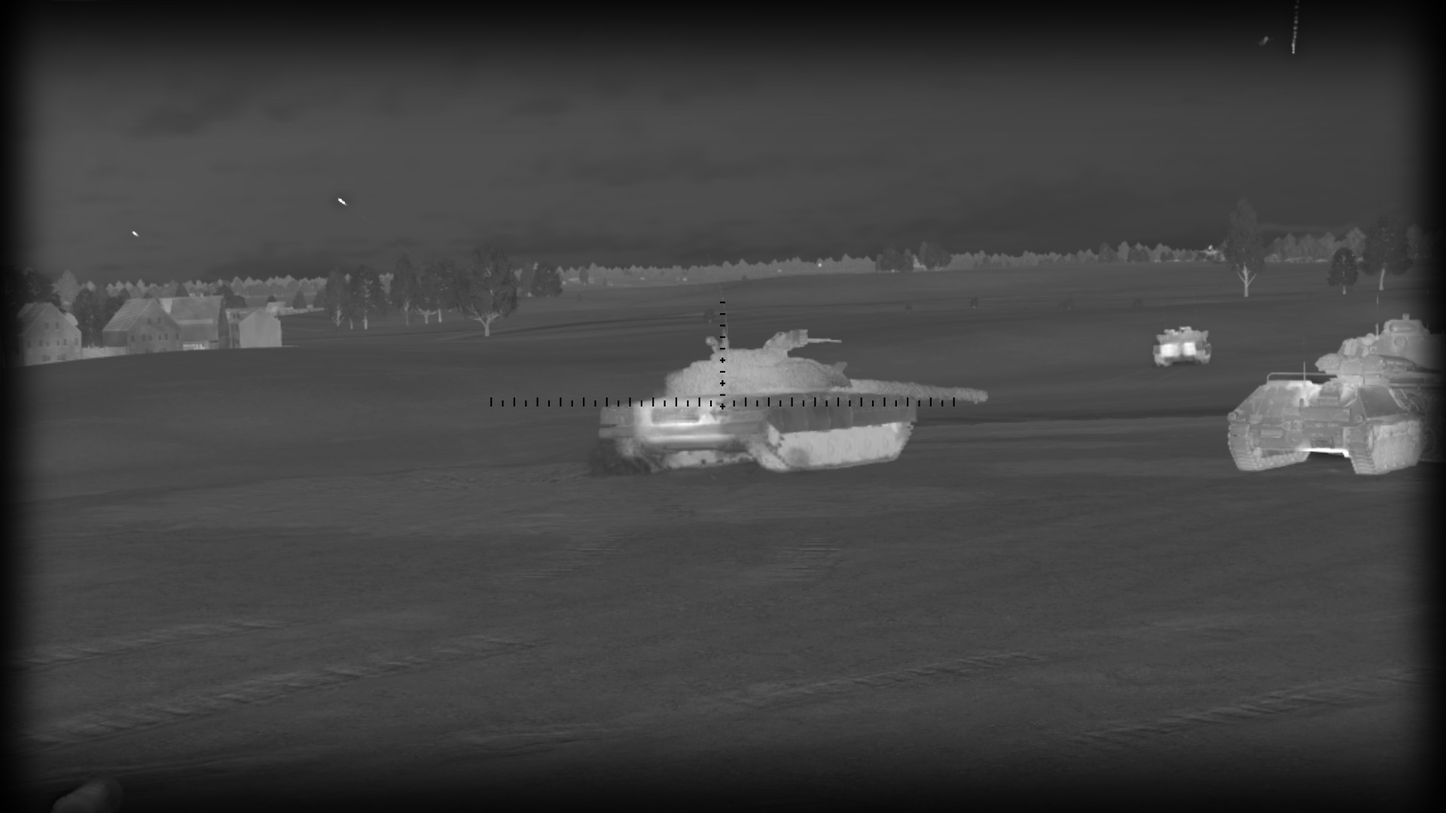abrams: (1152, 326, 1212, 366)
t-80u: (598, 328, 988, 474)
